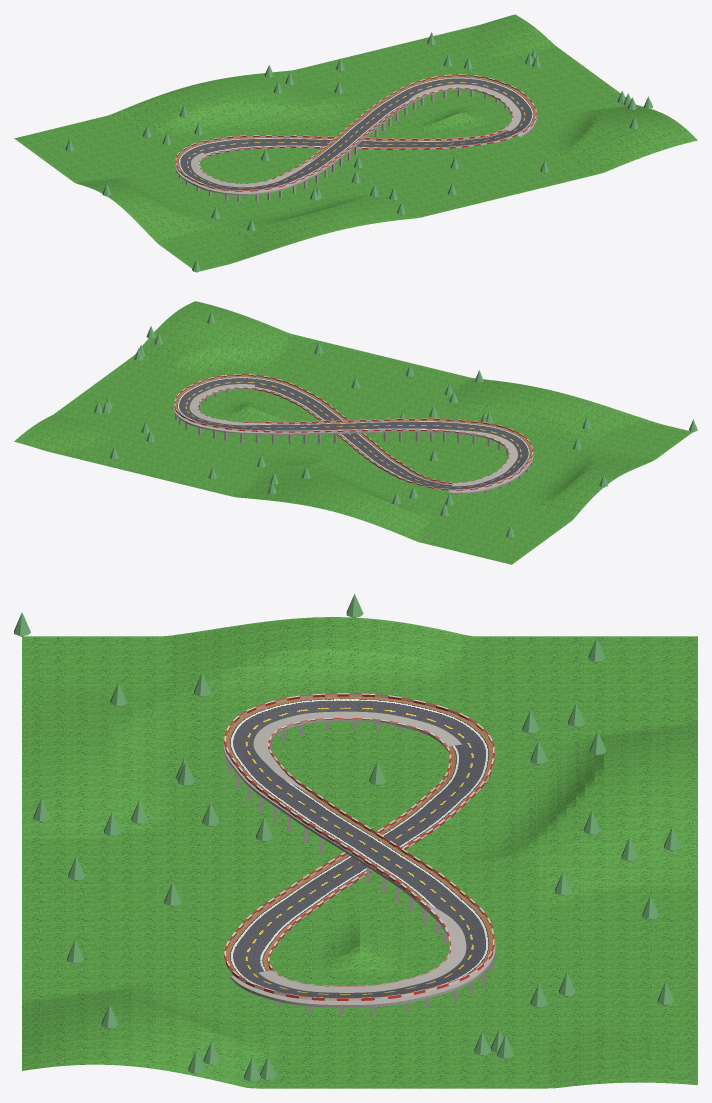
3 renders of one model, top to bottom at view 1: azimuth 30°, elevation 25°; view 2: azimuth 150°, elevation 25°; view 3: azimuth 270°, elevation 25°, orthographic. The views are drawn at different scales.
Parts seen in each view (by area): view 1: Terrain, Figure 8, Bridge Deck; view 2: Terrain, Figure 8, Bridge Deck; view 3: Terrain, Figure 8, Bridge Deck.
Boxes of the visible parts, x1,y1,x2,y2 form: Terrain: [14, 14, 697, 270]; Figure 8: [175, 74, 536, 191]; Bridge Deck: [175, 84, 537, 195]; Terrain: [14, 301, 692, 564]; Figure 8: [174, 374, 533, 490]; Bridge Deck: [174, 384, 533, 494]; Terrain: [22, 617, 697, 1088]; Figure 8: [224, 693, 494, 1000]; Bridge Deck: [223, 711, 495, 1007].
Size of the model in its own units: 384 by 19.06 by 243.
Materials: 7 (4 with a texture image).
